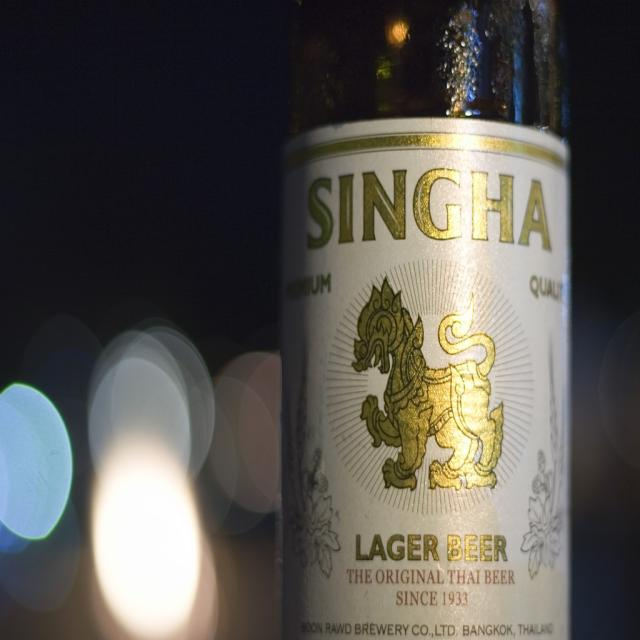singha: (283, 131, 574, 640)
